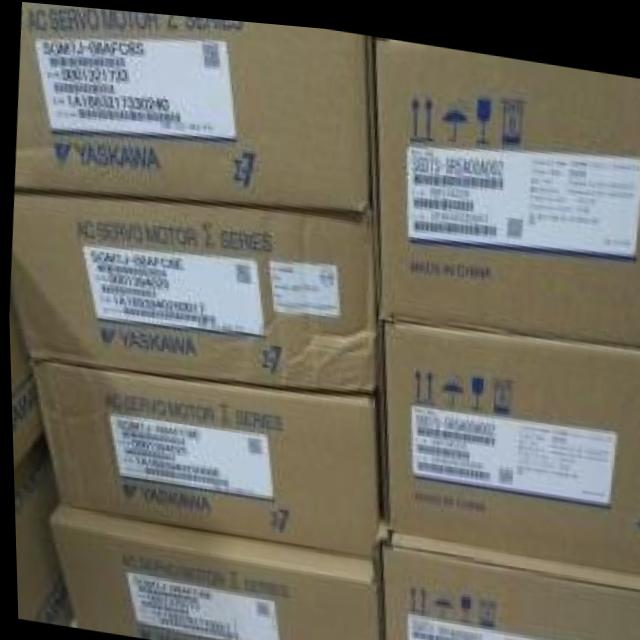box: (374, 29, 640, 337), (13, 2, 375, 204), (8, 194, 377, 384), (29, 359, 374, 549), (378, 315, 640, 563), (46, 502, 376, 640), (377, 529, 639, 640)
